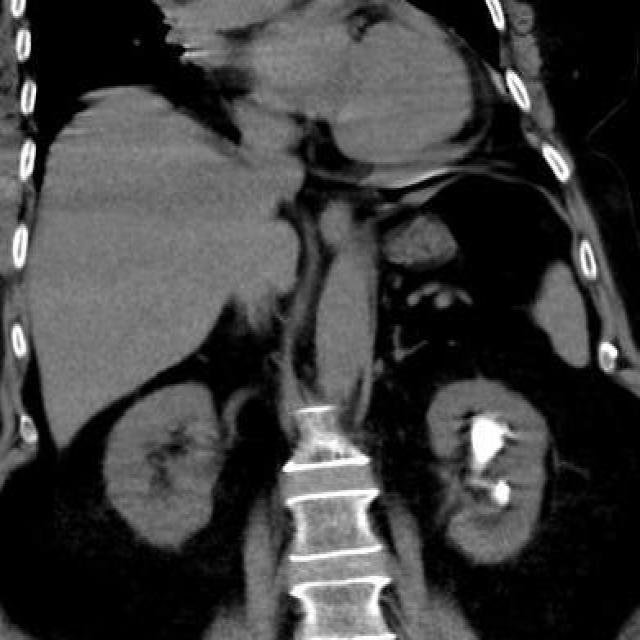Tas_Var: (466, 413, 506, 467), (494, 477, 512, 507)
